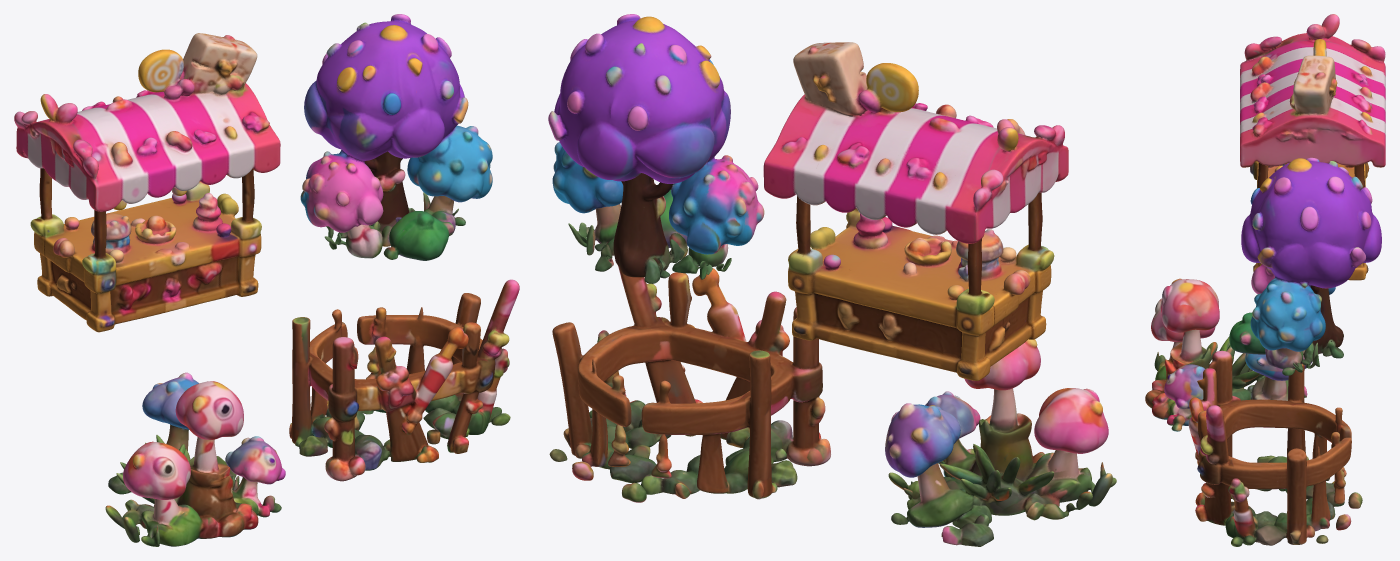
File: Meshy_AI_Candyland_Trinkets_1019072001_texture.fbx
The picture shows the model from 3 angles, left to right: view 1: azimuth 30°, elevation 25°; view 2: azimuth 150°, elevation 25°; view 3: azimuth 270°, elevation 25°; orthographic projection. The views are drawn at different scales.
Visible parts, largest first — view 1: Mesh_0; view 2: Mesh_0; view 3: Mesh_0.
Part boxes in pixels (x1,y1,x2,y2): Mesh_0: [14, 14, 519, 546]; Mesh_0: [548, 14, 1116, 546]; Mesh_0: [1145, 14, 1385, 546].
Bounding box in the file's own units: 189 × 178 × 102.
1 material, 1 textured.
